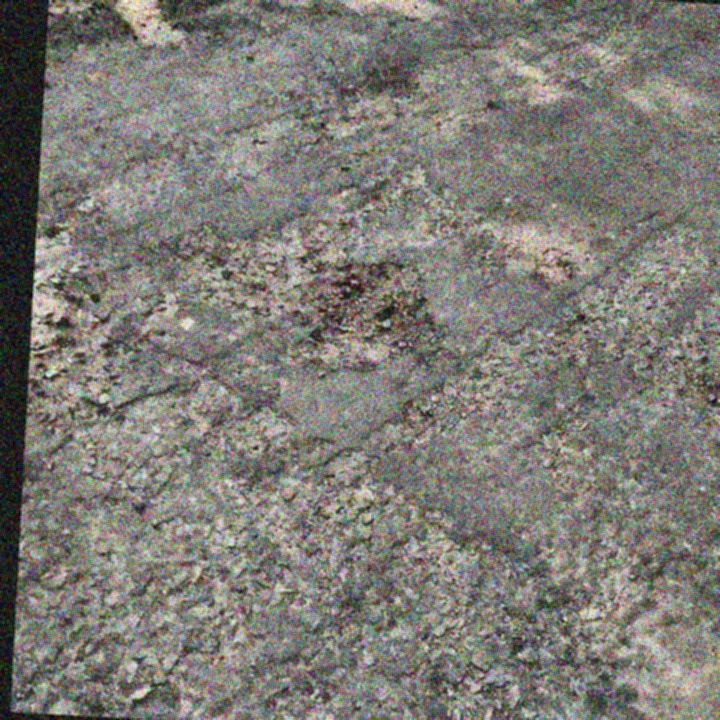pothole: (306, 251, 448, 375)
